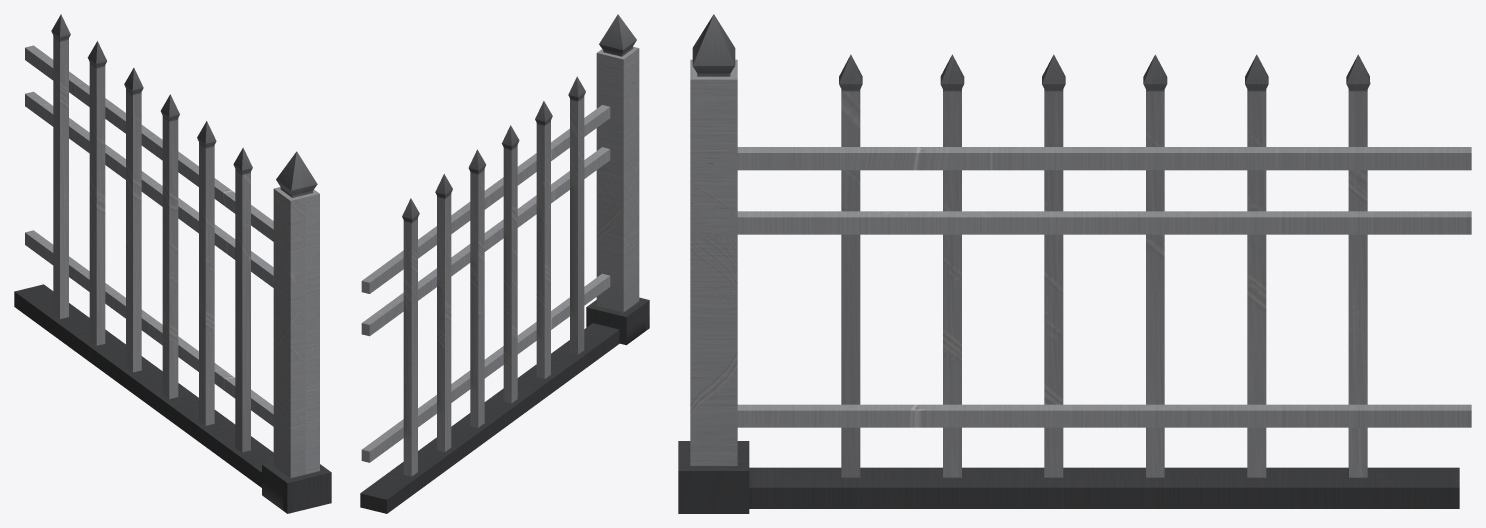
File: FenceSegment.fbx
3 views of the same model, side by side, from view 1: azimuth 30°, elevation 25°; view 2: azimuth 150°, elevation 25°; view 3: azimuth 270°, elevation 25° (orthographic). The views are drawn at different scales.
Parts seen in each view (by area): view 1: Fence_Segment; view 2: Fence_Segment; view 3: Fence_Segment.
Part boxes in pixels (x1,y1,x2,y2): Fence_Segment: (14,14,331,513); Fence_Segment: (360,14,649,513); Fence_Segment: (678,14,1471,513).
Size of the model in its own units: 15 by 113 by 168.
Materials: 1 (1 with a texture image).
